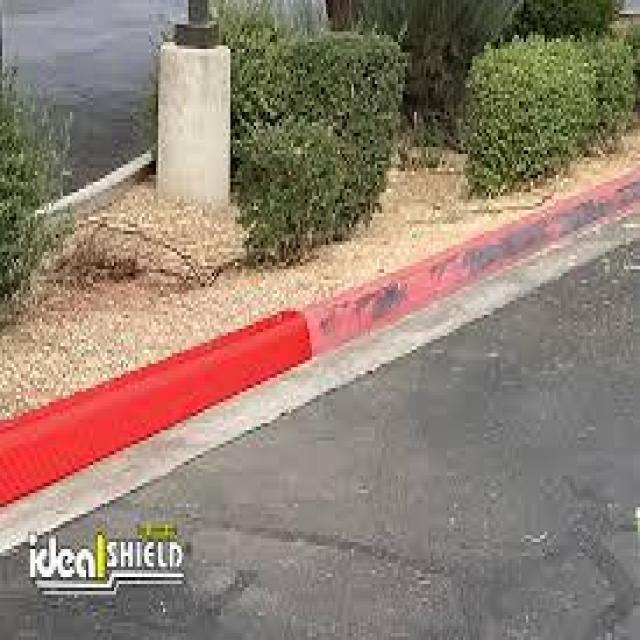curb: (117, 322, 310, 435), (1, 367, 146, 514), (296, 279, 395, 358)
